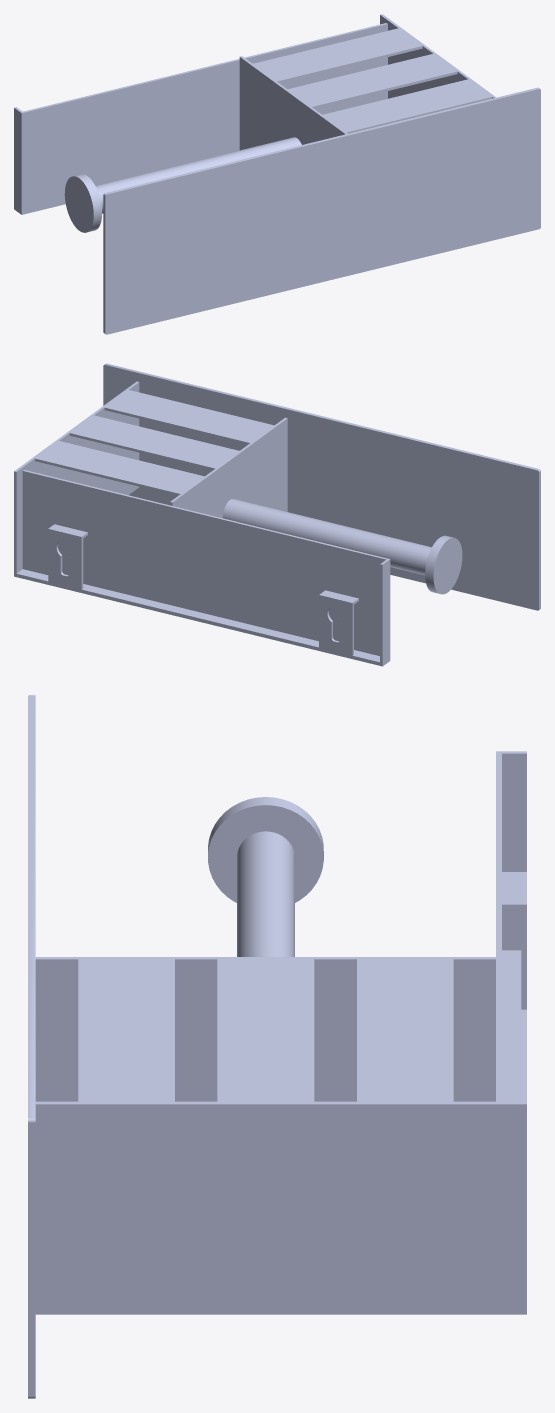
The model's file is skyline-duetto.b247cfd9f1.glb.
The picture shows the model from 3 angles, top to bottom: view 1: azimuth 30°, elevation 25°; view 2: azimuth 150°, elevation 25°; view 3: azimuth 270°, elevation 25°; orthographic projection. The views are drawn at different scales.
Parts seen in each view (by area): view 1: NAUO1; view 2: NAUO1; view 3: NAUO1.
Boxes of the visible parts, bbox=[...] form: NAUO1: bbox=[14, 14, 540, 334]; NAUO1: bbox=[14, 363, 540, 666]; NAUO1: bbox=[28, 695, 526, 1398].
Bounding box in the file's own units: 0.26 × 0.08 × 0.129.
